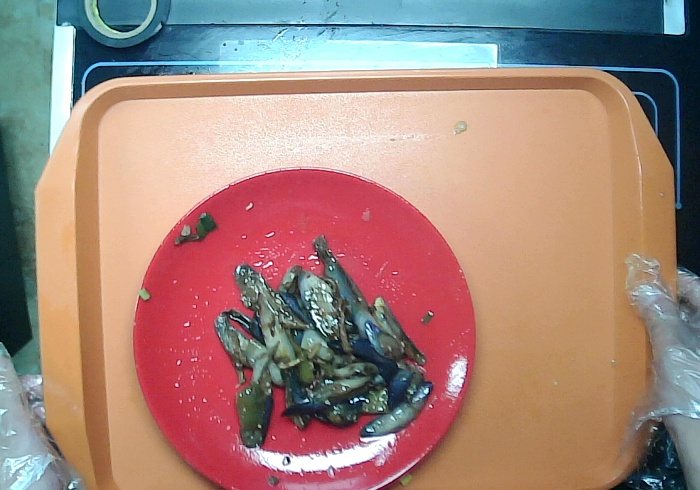HZYJPL-Hong_Se_Yuan_Pan: (130, 165, 475, 490)
